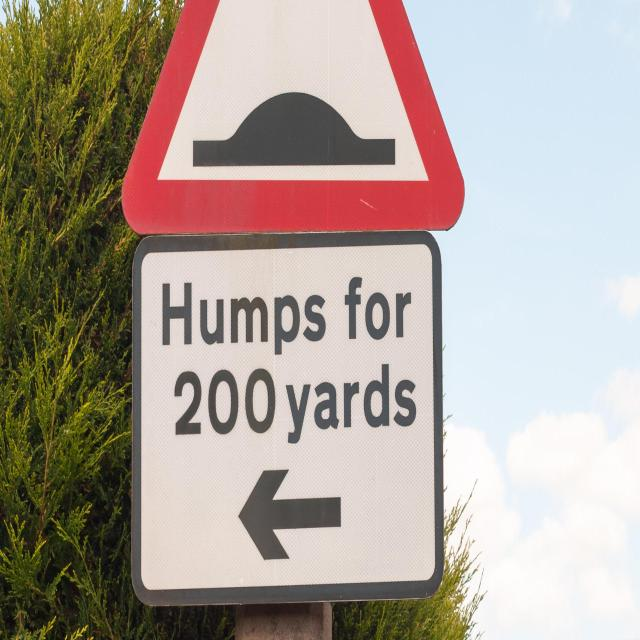hump: (117, 0, 469, 237)
